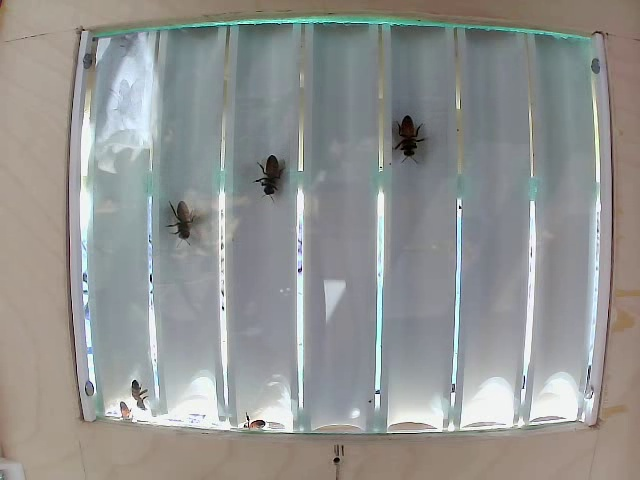bee: (256, 156, 293, 203), (172, 193, 201, 244), (388, 119, 423, 161)
